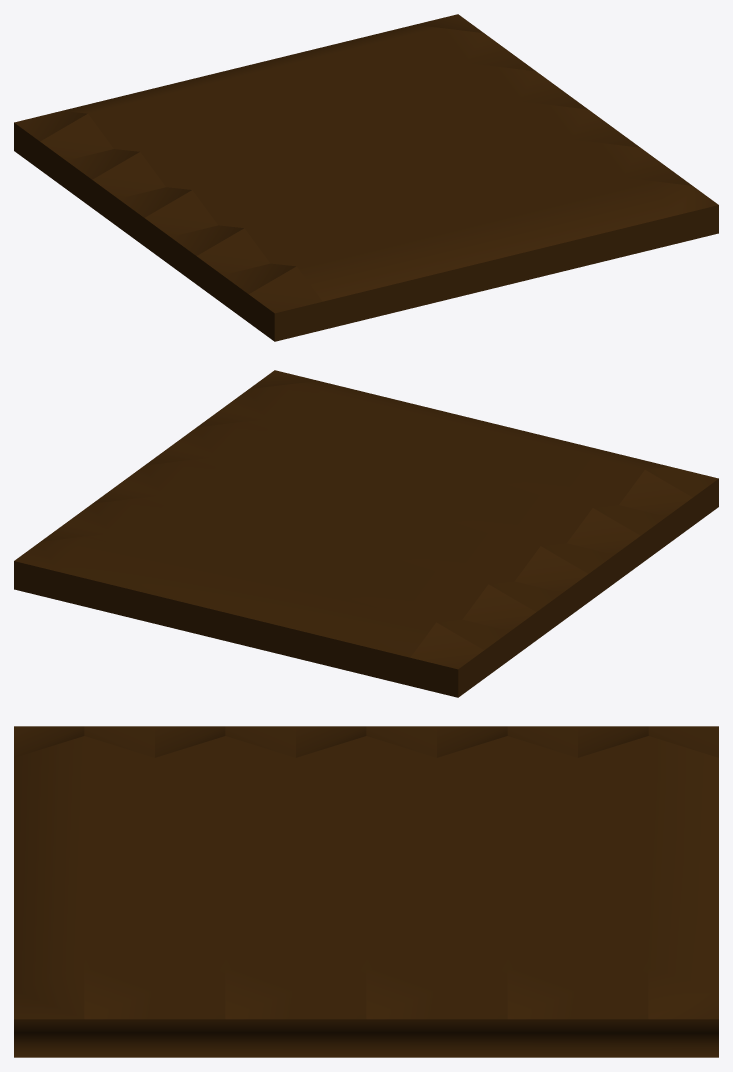
File: square.fbx
3 renders of one model, top to bottom at view 1: azimuth 30°, elevation 25°; view 2: azimuth 150°, elevation 25°; view 3: azimuth 270°, elevation 25°, orthographic. The views are drawn at different scales.
Visible parts, largest first — view 1: pCube1; view 2: pCube1; view 3: pCube1.
Part boxes in pixels (<box>): pCube1: <box>14,14,718,341</box>; pCube1: <box>14,370,718,697</box>; pCube1: <box>14,726,718,1057</box>.
Size of the model in its own units: 99.84 by 9.6 by 102.
1 material, 1 textured.
